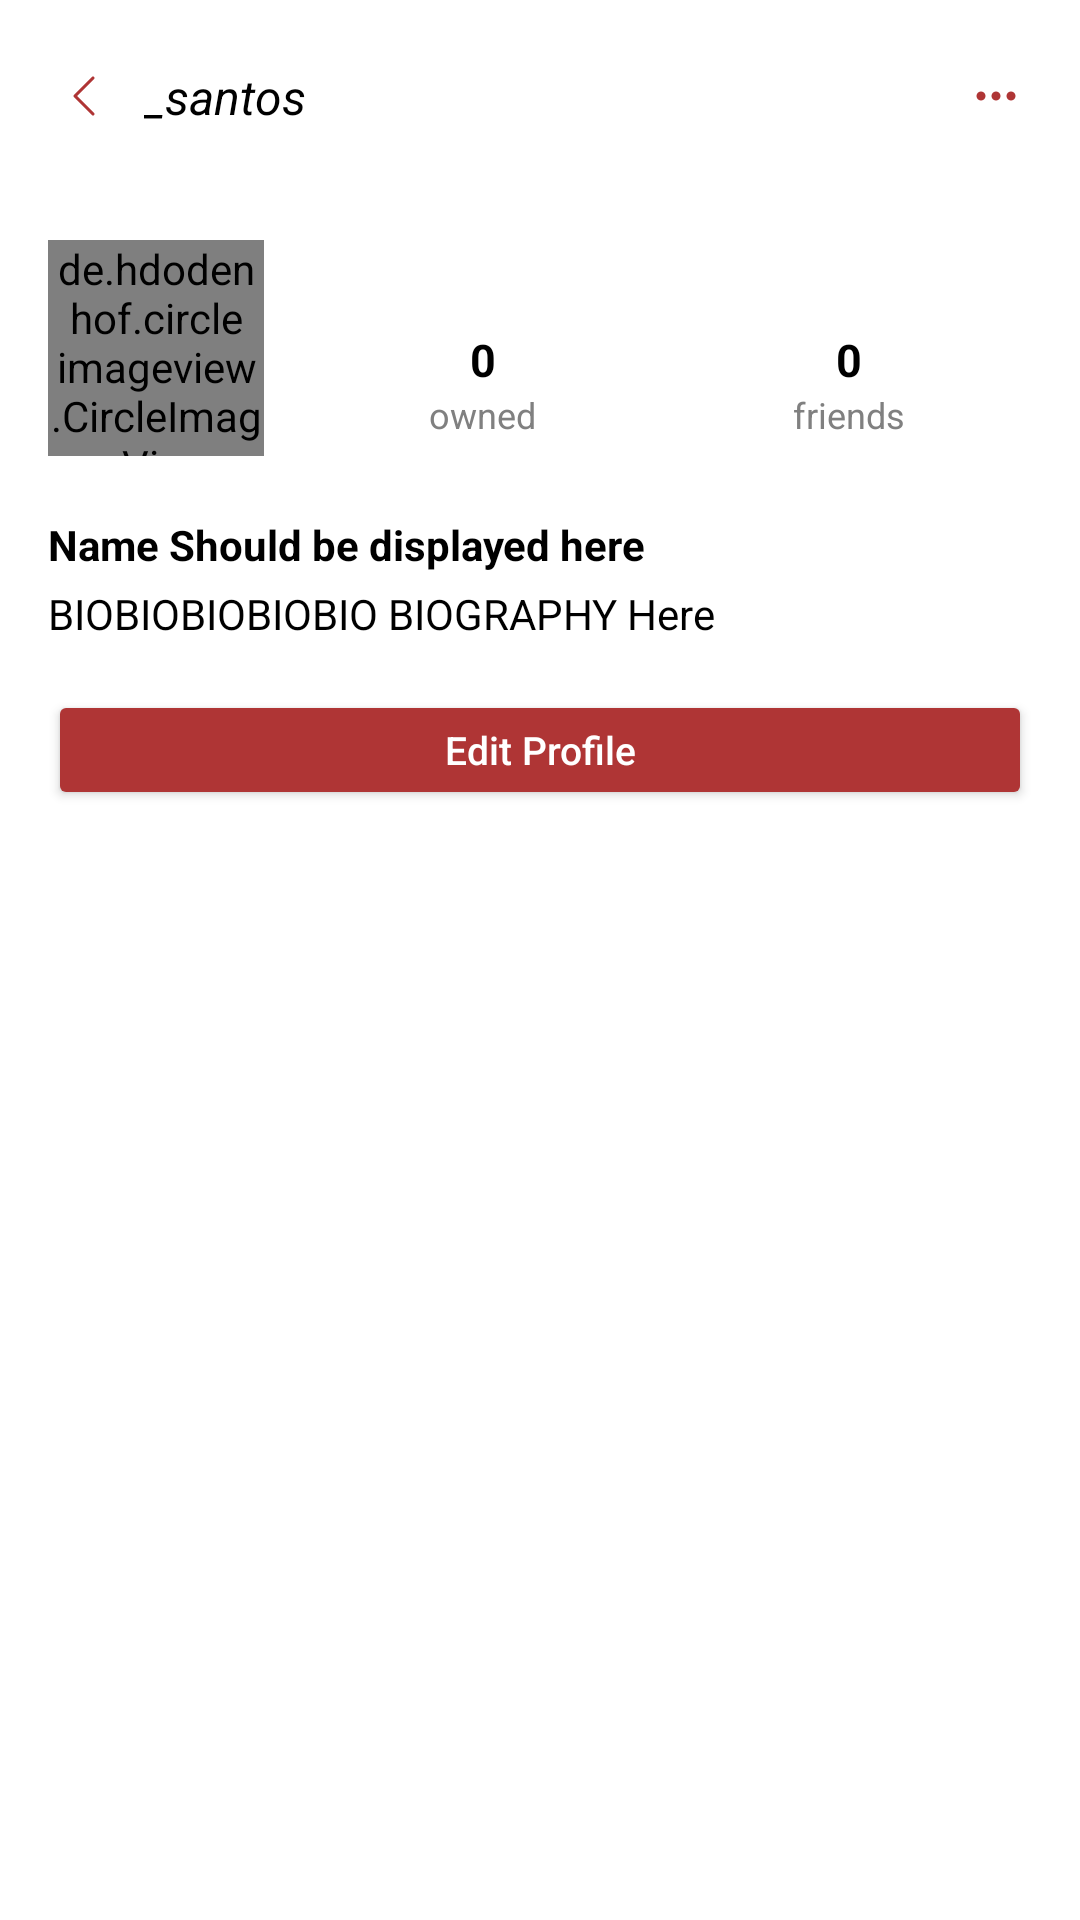

Screen size 1080×1920. Icon name, then its box in pixels as (x1, y1, x2, y2):
Back: (73, 76, 95, 116)
More options: (976, 91, 1016, 101)
